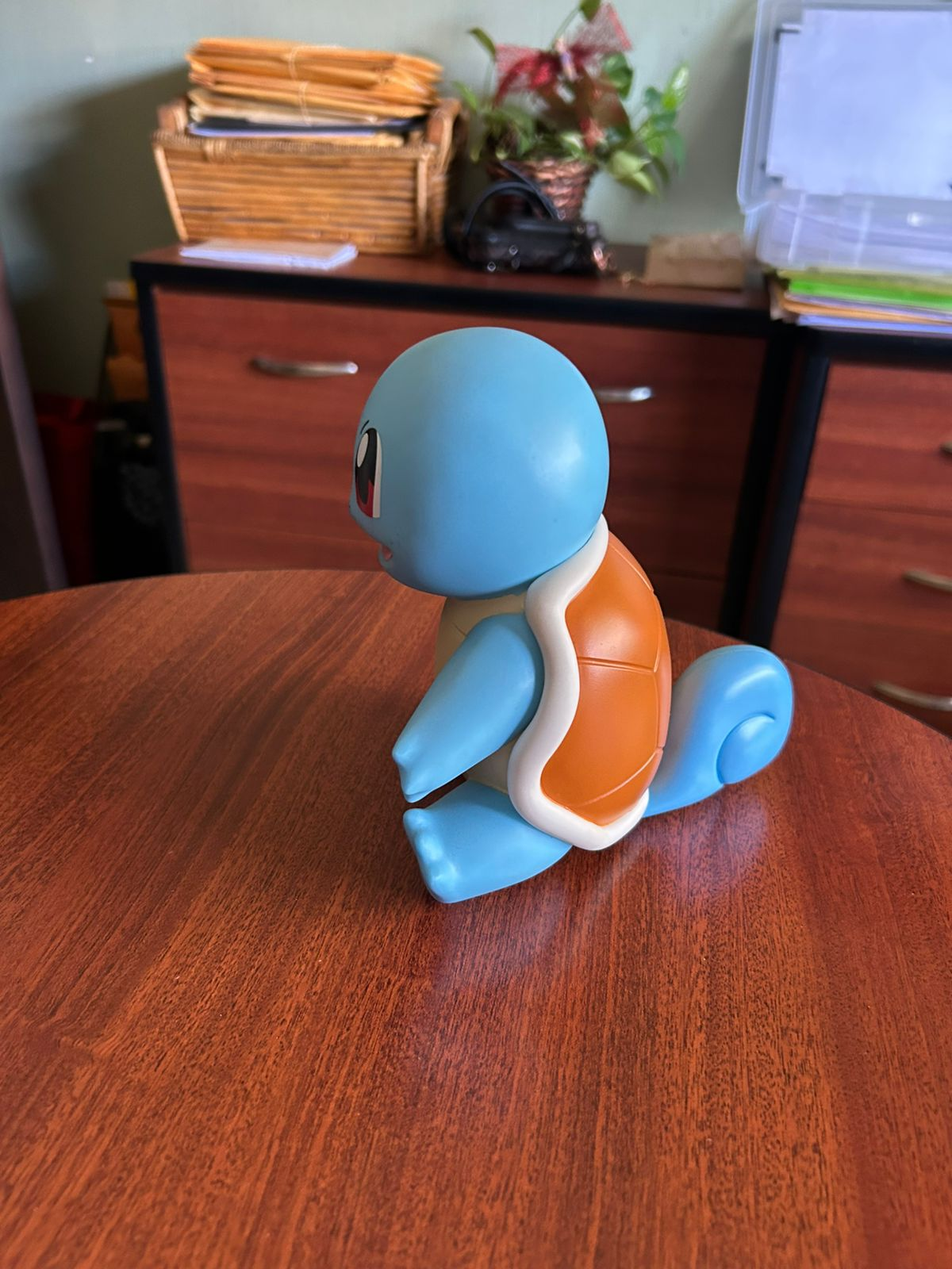Squirtle: (351, 328, 792, 900)
